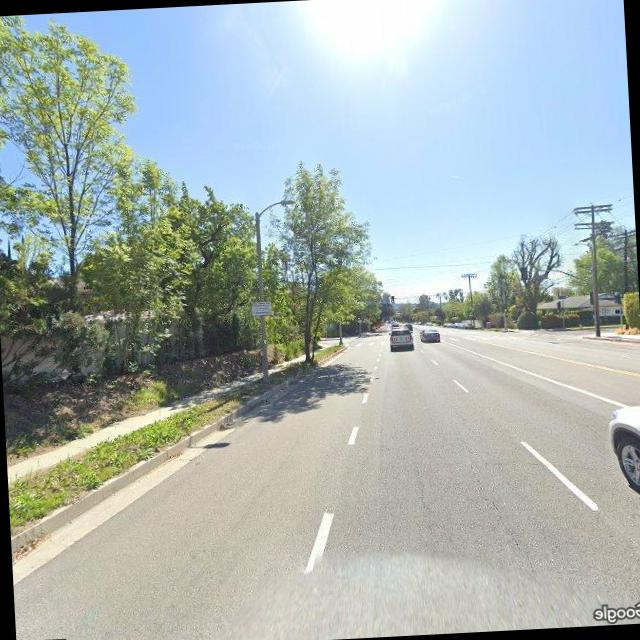crack: (464, 438, 536, 574), (487, 448, 612, 476)
